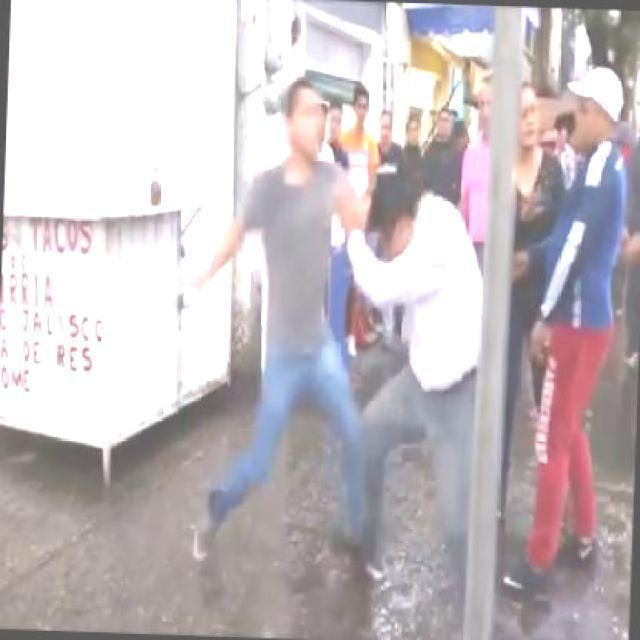fight: (165, 73, 488, 578)
non-fight: (524, 65, 630, 592)
